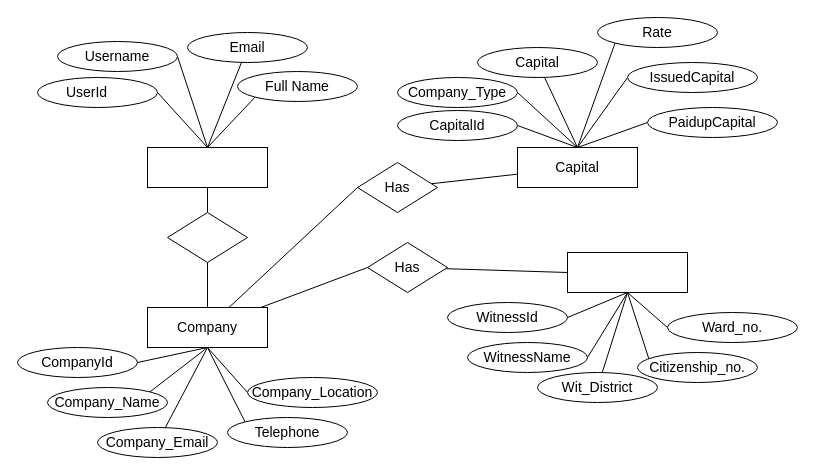
The diagram is 815 pixels wide and 475 high, and some of its shapes have lost their labels. The centre of each missing label's shape, as x and y in pixels:
"Register" belongs at (207,237).
"User" belongs at (207,167).
"Witness" belongs at (627,272).
